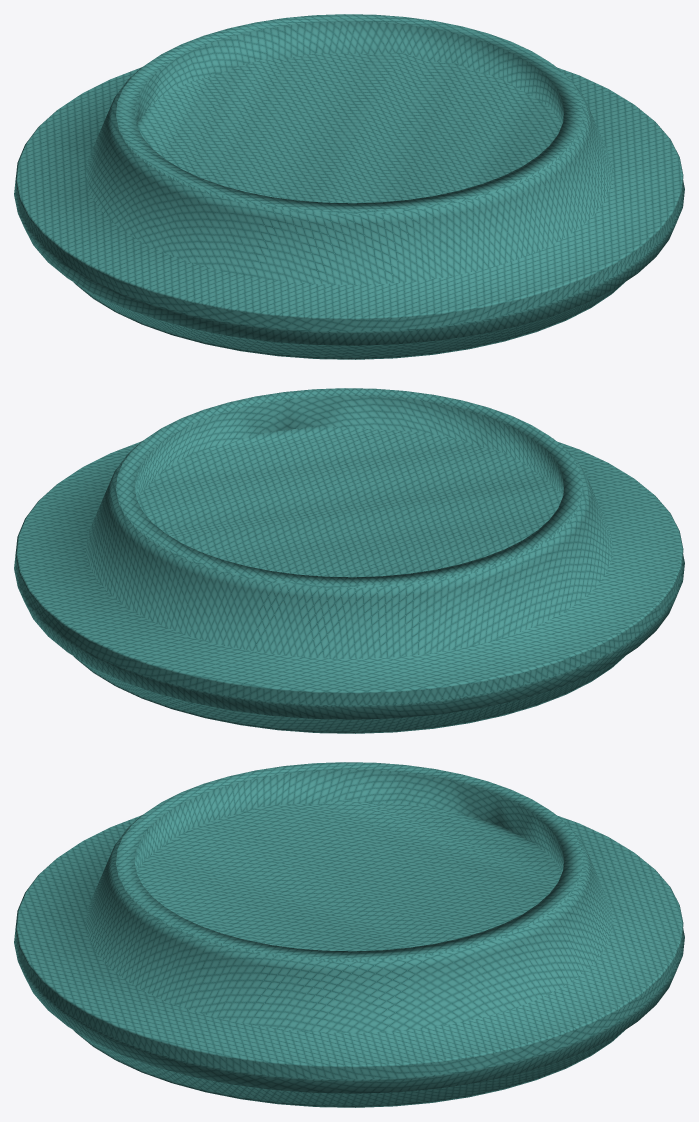
Rendered from Decore stand.fbx.
3 renders of one model, top to bottom at view 1: azimuth 30°, elevation 25°; view 2: azimuth 150°, elevation 25°; view 3: azimuth 270°, elevation 25°, orthographic.
Parts seen in each view (by area): view 1: Decore_stand; view 2: Decore_stand; view 3: Decore_stand.
Boxes of the visible parts, box(x1,y1,x2,y2) form: Decore_stand: box(14, 14, 684, 359); Decore_stand: box(14, 388, 684, 733); Decore_stand: box(14, 762, 684, 1107).
Bounding box in the file's own units: 460 × 91.31 × 460.
1 material, 1 textured.
